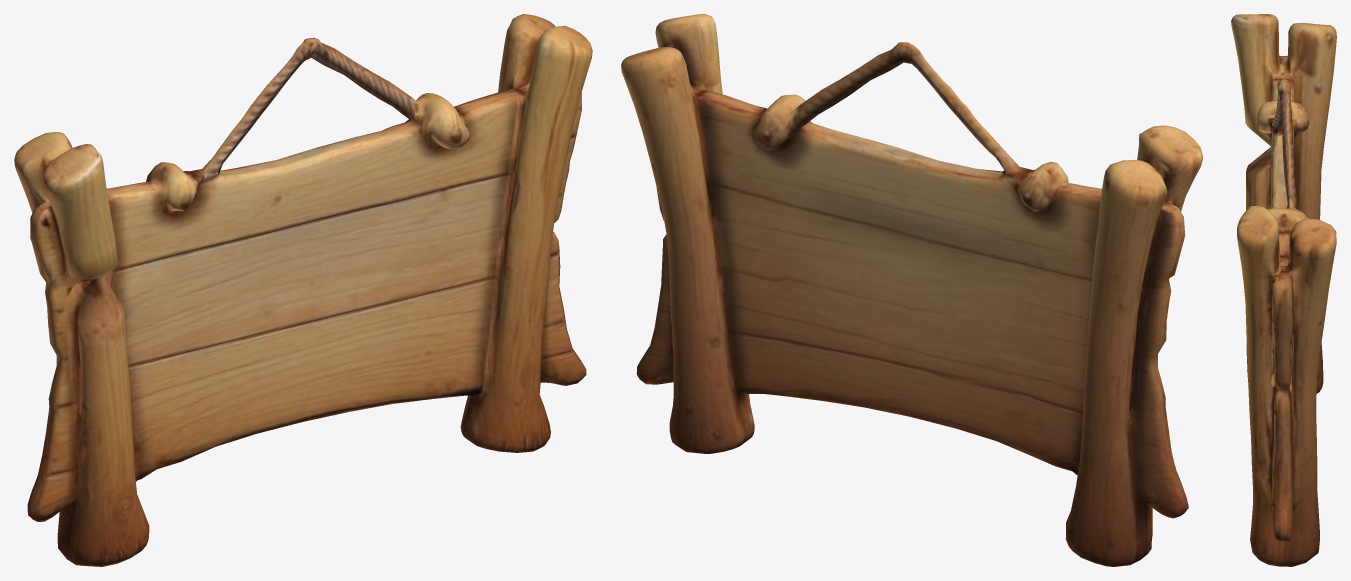
The picture shows the model from 3 angles, left to right: view 1: azimuth 30°, elevation 25°; view 2: azimuth 150°, elevation 25°; view 3: azimuth 270°, elevation 25°; orthographic projection. The views are drawn at different scales.
Size of the model in its own units: 1.99 by 1.6 by 0.3815.
1 material, 1 textured.
